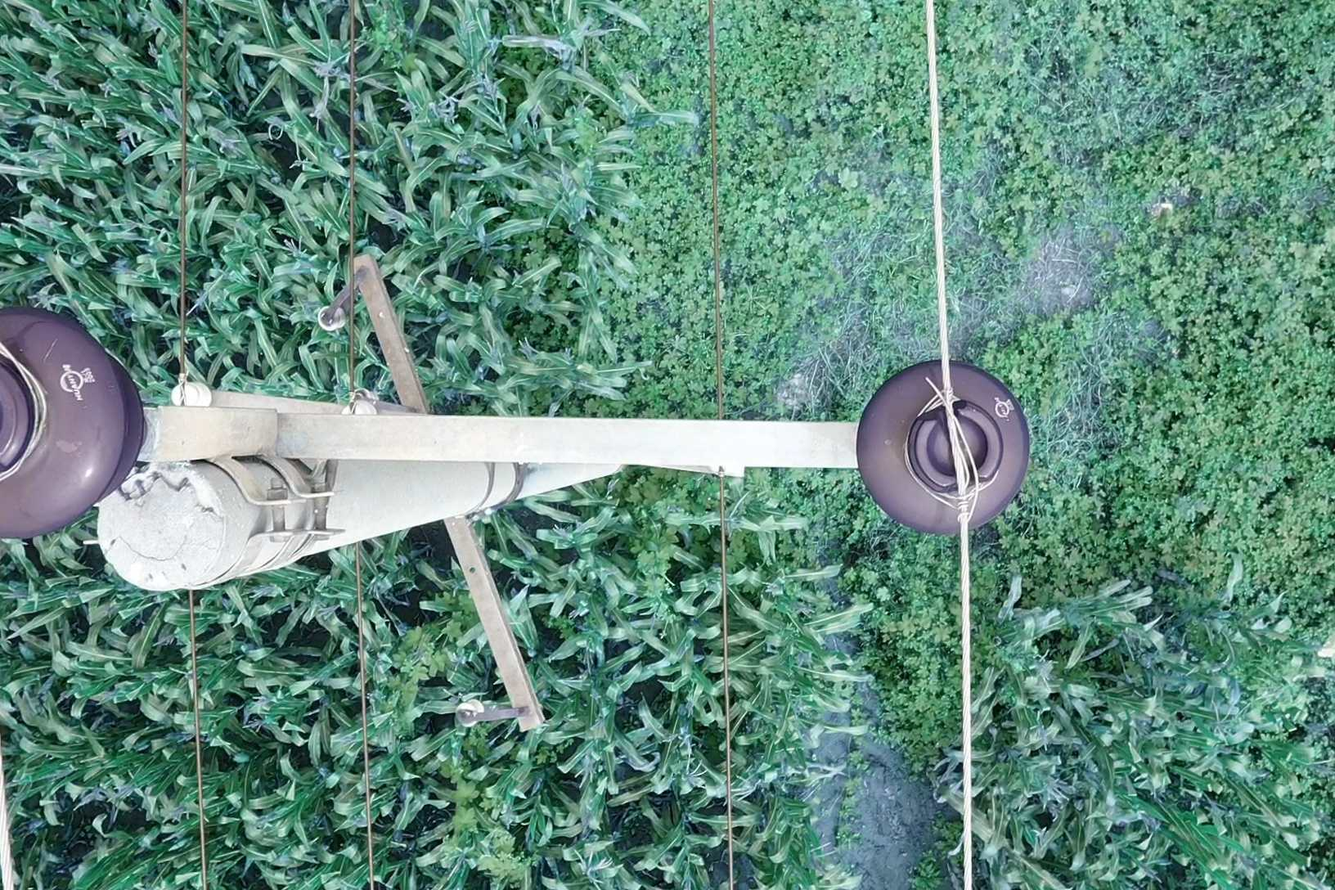severe_soiling_no_discharge_whole: (315, 304, 348, 331)
